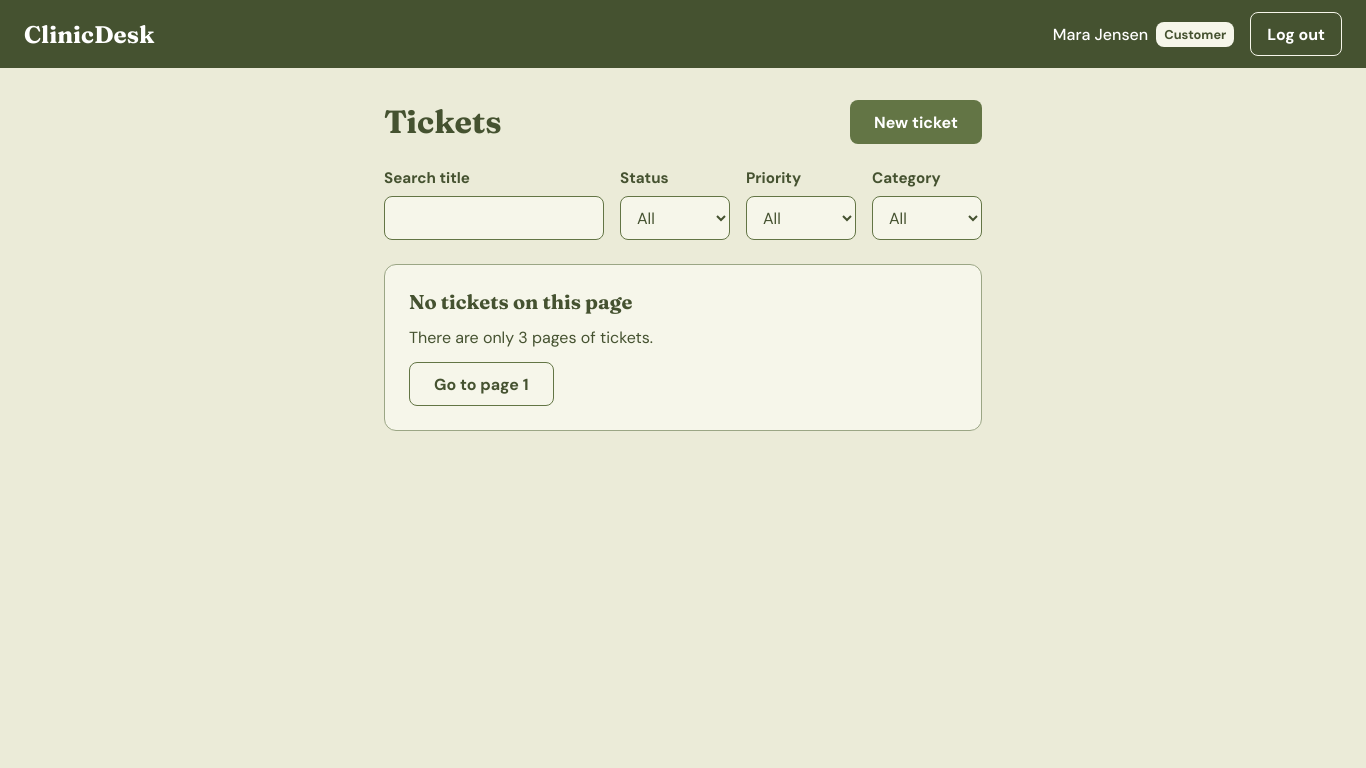
Scenario: TicketsPage › offers page 1 when the page is past the end
Click the button "Go to page 1" at (481, 384), box [409, 362, 554, 406]
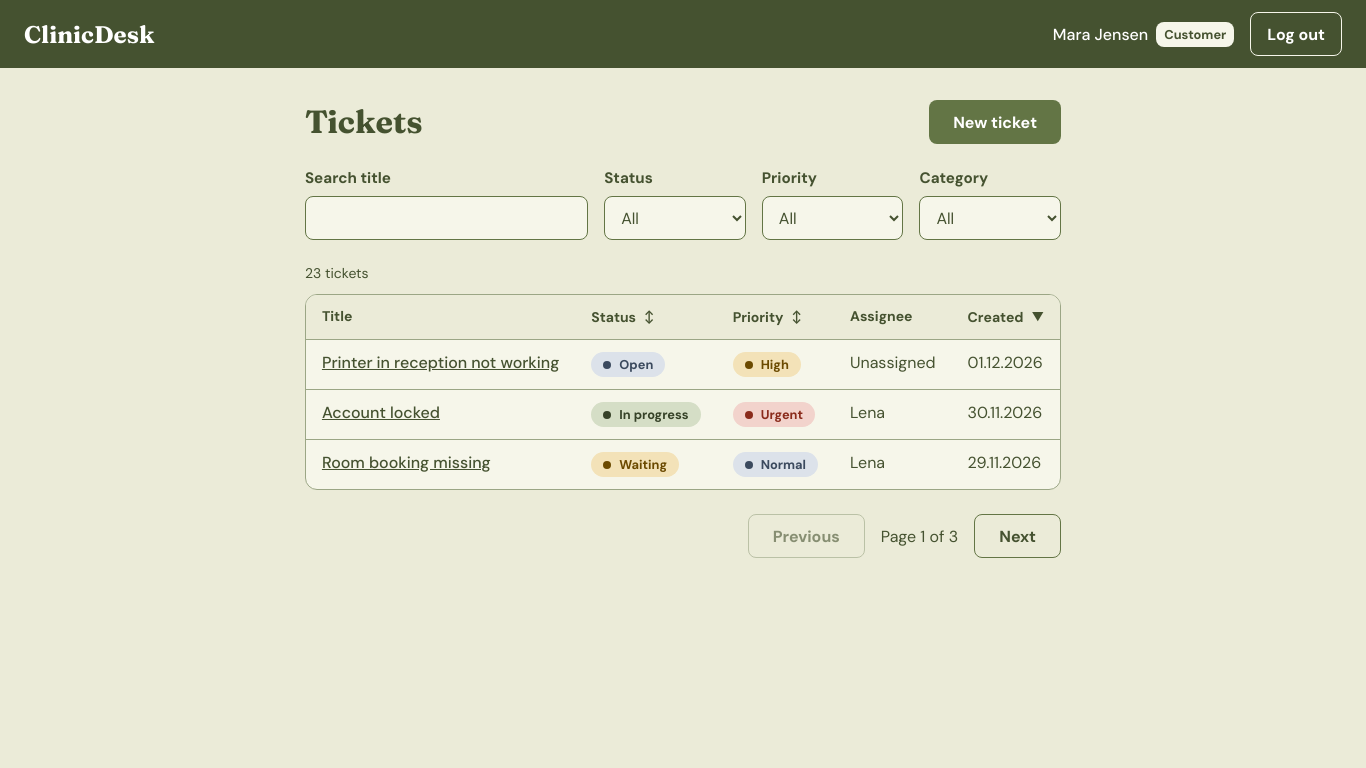
Check: the text "Page 1 of 3" is shown, box [881, 526, 958, 546]
